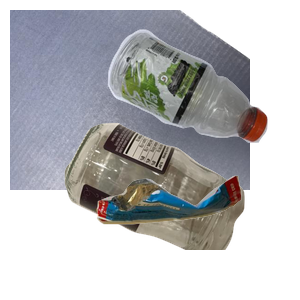cardboard: (10, 10, 250, 190)
glass: (62, 120, 300, 300)
plastic: (105, 27, 300, 162)
trash: (94, 173, 300, 300)
